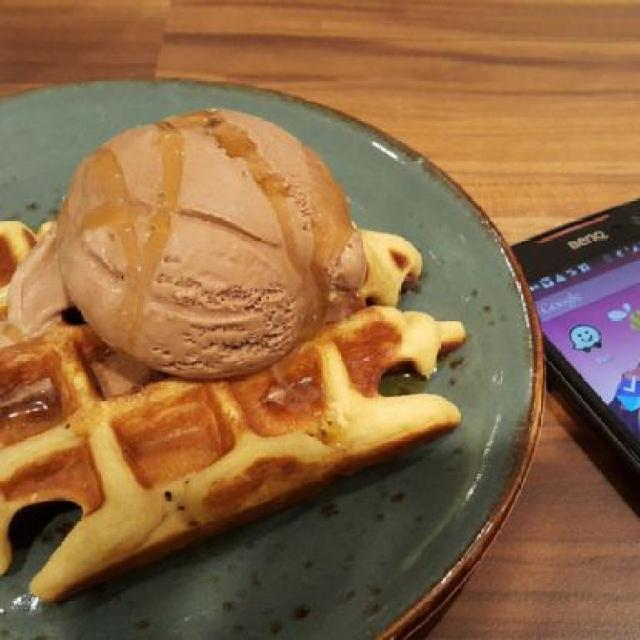Waffle: (0, 119, 474, 604)
